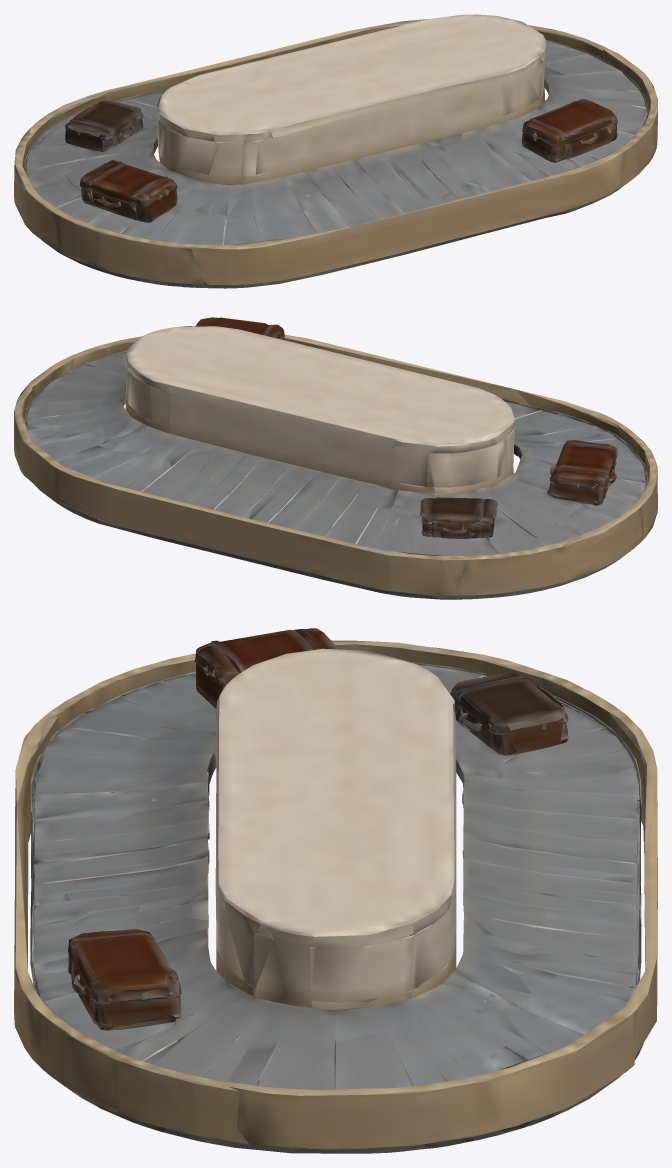
Rendered from term_carousel.glb.
The picture shows the model from 3 angles, top to bottom: view 1: azimuth 30°, elevation 25°; view 2: azimuth 150°, elevation 25°; view 3: azimuth 270°, elevation 25°; orthographic projection. The views are drawn at different scales.
Parts seen in each view (by area): view 1: LO; view 2: LO; view 3: LO.
Boxes of the visible parts, x1,y1,x2,y2 form: LO: (14,14,657,288); LO: (14,317,657,599); LO: (14,628,657,1153).
Bounding box in the file's own units: 6.39 × 1.03 × 3.82.
Materials: 1 (1 with a texture image).
